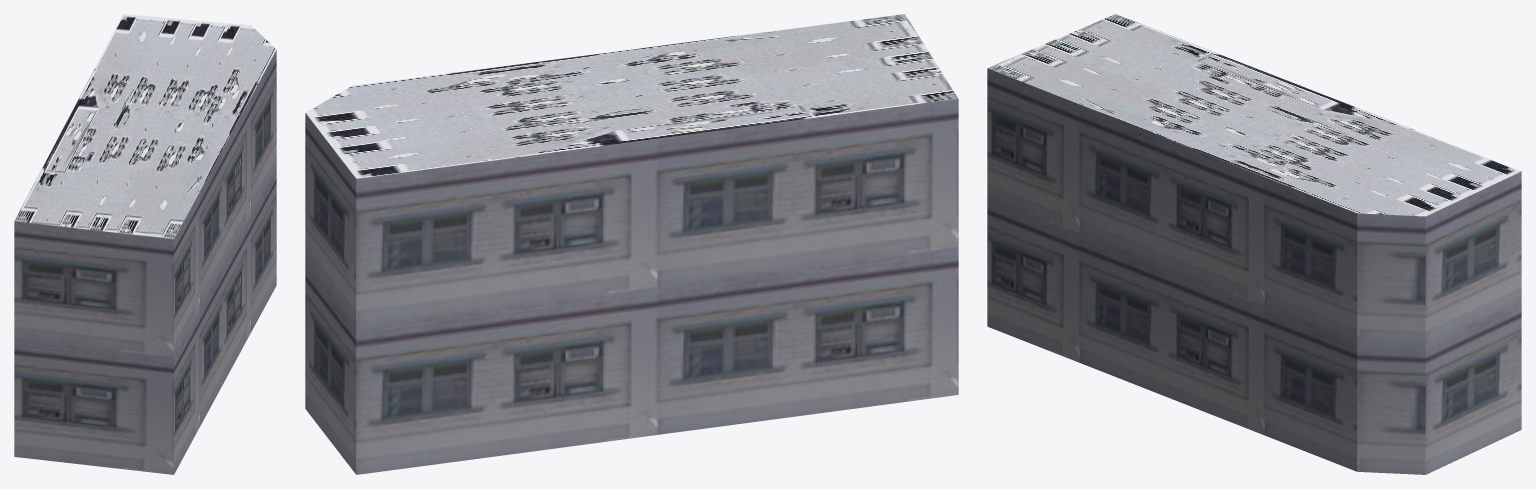
File: ResTex__3346.fbx
3 renders of one model, left to right at view 1: azimuth 30°, elevation 25°; view 2: azimuth 150°, elevation 25°; view 3: azimuth 270°, elevation 25°, orthographic. The views are drawn at different scales.
Visible parts, largest first — view 1: CityEngineMaterial_1_m, CityEngineMaterial_8_m; view 2: CityEngineMaterial_1_m, CityEngineMaterial_8_m; view 3: CityEngineMaterial_1_m, CityEngineMaterial_8_m.
Part boxes in pixels (x1,y1,x2,y2): CityEngineMaterial_1_m: (14,50,276,474); CityEngineMaterial_8_m: (14,14,276,239); CityEngineMaterial_1_m: (305,99,958,474); CityEngineMaterial_8_m: (305,14,958,178); CityEngineMaterial_1_m: (987,68,1521,474); CityEngineMaterial_8_m: (987,14,1520,216).
Size of the model in its own units: 10.08 by 6 by 11.24.
Materials: 2 (2 with a texture image).
